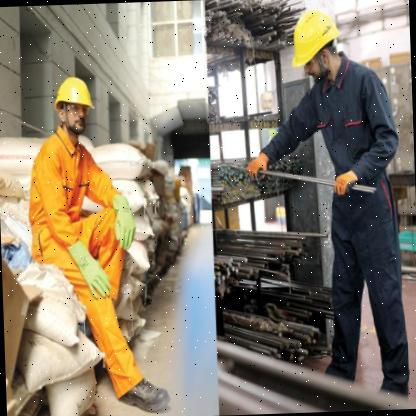bota: (118, 375, 173, 415)
capacete: (282, 6, 348, 72), (50, 74, 102, 113)
oculos: (63, 104, 90, 116)
